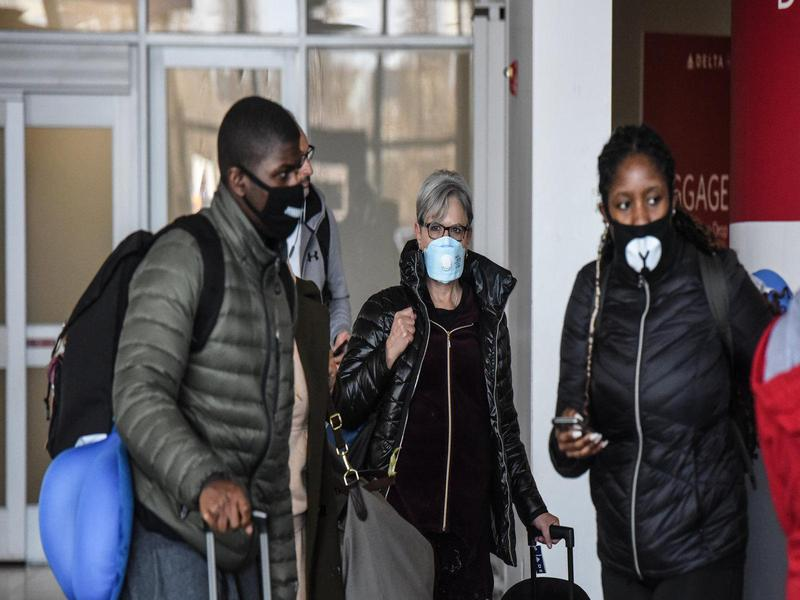with_mask: (217, 98, 304, 244), (603, 150, 673, 276), (423, 192, 470, 284)
